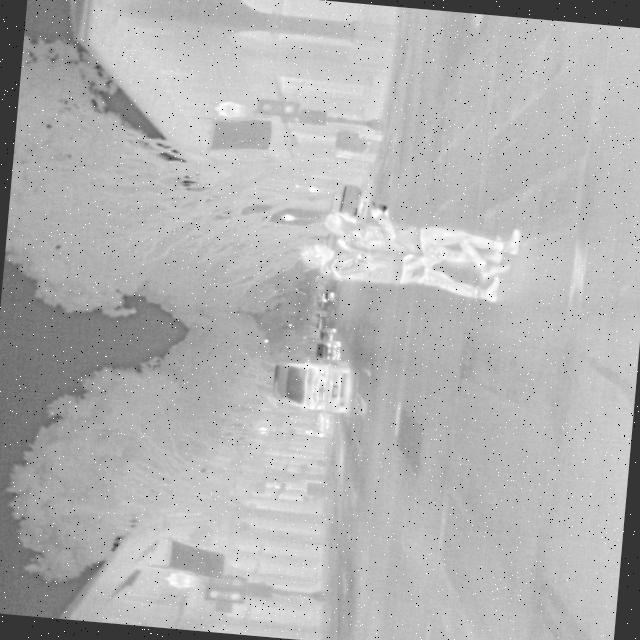Pedestrian: (319, 197, 526, 282), (294, 228, 508, 306)
Vehicle: (268, 354, 356, 415), (310, 338, 343, 362)
